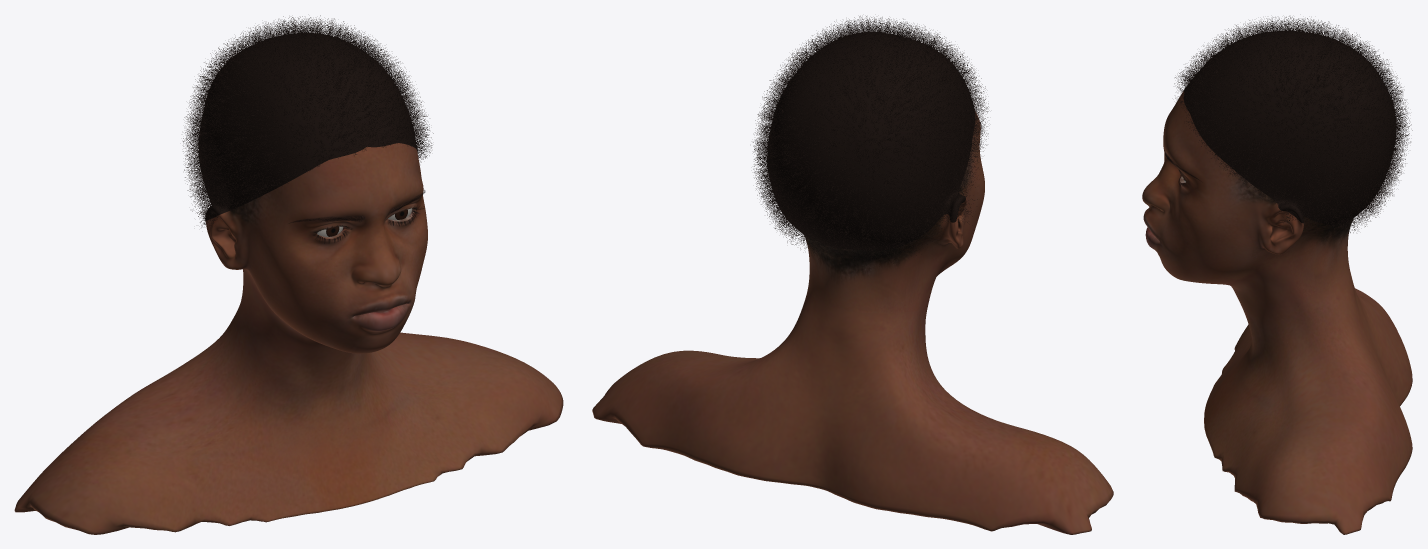
Rendered from amara-anatomical-v2.glb.
3 views of the same model, side by side, from view 1: azimuth 30°, elevation 25°; view 2: azimuth 150°, elevation 25°; view 3: azimuth 270°, elevation 25° (orthographic). The views are drawn at different scales.
Parts seen in each view (by area): view 1: Amara_Face, Amara_Scalp, Amara_Natural_Hair; view 2: Amara_Face, Amara_Scalp, Amara_Natural_Hair; view 3: Amara_Face, Amara_Scalp, Amara_Natural_Hair.
Part boxes in pixels (x1,y1,x2,y2): Amara_Face: [14, 143, 563, 534]; Amara_Scalp: [198, 32, 417, 220]; Amara_Natural_Hair: [183, 15, 433, 227]; Amara_Face: [592, 110, 1113, 534]; Amara_Scalp: [767, 31, 975, 250]; Amara_Natural_Hair: [753, 16, 988, 262]; Amara_Face: [1142, 91, 1412, 534]; Amara_Scalp: [1183, 31, 1396, 225]; Amara_Natural_Hair: [1174, 16, 1412, 232].
Size of the model in its own units: 0.438 by 0.3549 by 0.2196.
Materials: 6 (4 with a texture image).
